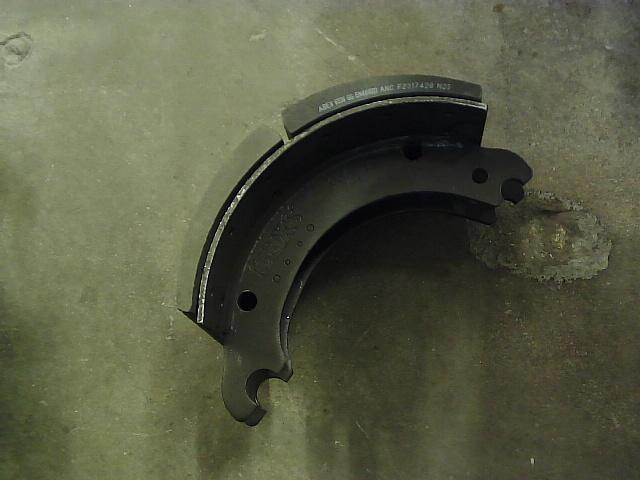brake-shoes: (173, 73, 534, 426)
